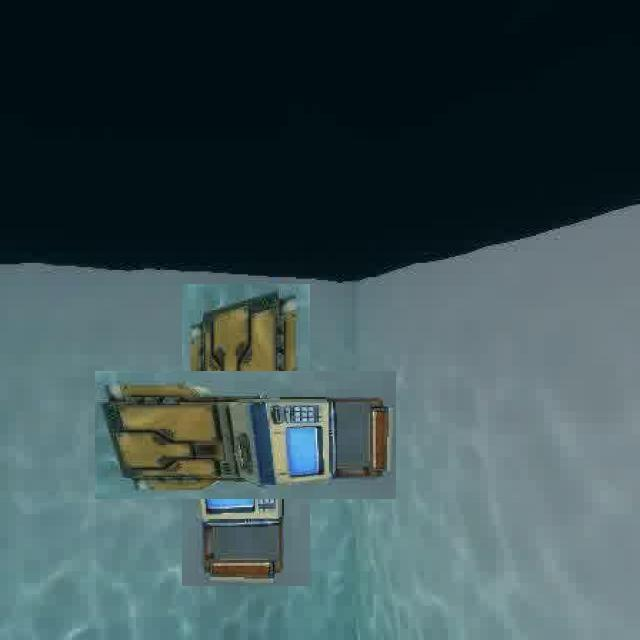Control Panel: (138, 328, 354, 543)
